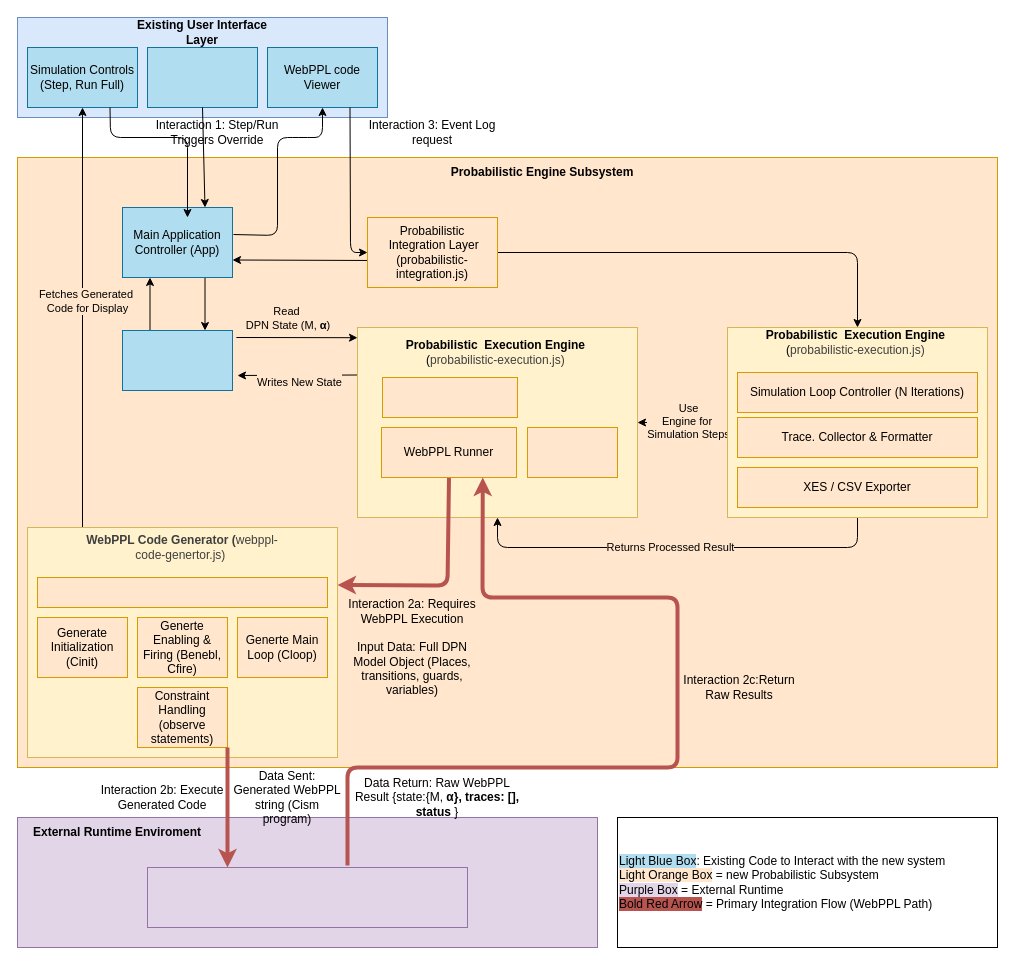
This 1015x965 diagram has some shape labels left out. Each missing label, with the box of its shape:
Csim Translation Engine (Paper Section 5): (36, 576, 328, 608)
DPN Model State (dpn-model.js ): (122, 330, 232, 390)
Event Log Generator: (146, 46, 258, 108)
Native Stepper: (382, 376, 518, 418)
Scheduller ST (Uniform / Weighted): (526, 426, 618, 478)
WebPPL npm package (Probabilistic Interface Runtime): (146, 866, 468, 928)
